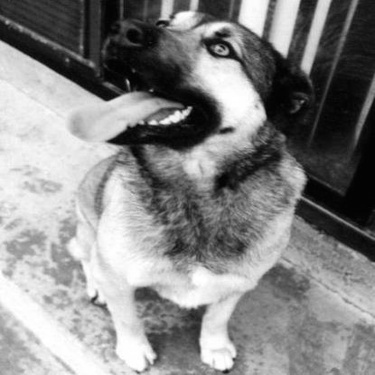dog: (65, 8, 320, 371)
